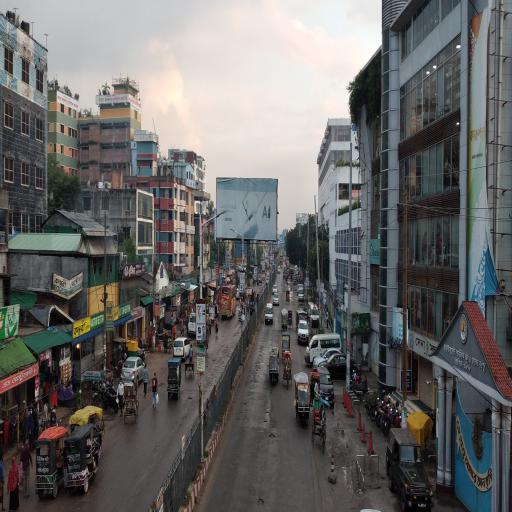ambulance: (311, 304, 320, 328)
army vehicle: (388, 426, 434, 511)
auto rickshaw: (68, 424, 102, 495), (36, 426, 68, 498), (70, 409, 107, 443), (295, 373, 311, 428), (169, 358, 183, 401), (269, 345, 280, 385), (283, 331, 291, 352), (283, 309, 289, 330)
bicycle: (85, 391, 103, 408)
bus: (221, 285, 237, 319)
car: (320, 354, 357, 383), (122, 357, 145, 388), (314, 349, 343, 371), (319, 366, 335, 405), (174, 338, 190, 362), (274, 294, 281, 306), (273, 285, 278, 293), (237, 289, 240, 299), (267, 278, 270, 285)
motorbike: (371, 399, 393, 422), (366, 393, 386, 416), (377, 402, 398, 423), (103, 389, 119, 413), (13, 416, 26, 445), (383, 417, 404, 434), (351, 372, 363, 387), (115, 359, 125, 377)
pickup: (297, 309, 310, 343), (294, 276, 297, 285)
rickshaw: (313, 397, 328, 452), (124, 384, 140, 425), (311, 371, 321, 410), (283, 352, 293, 388), (289, 309, 294, 328), (208, 315, 211, 339), (287, 290, 290, 303), (291, 275, 294, 284), (283, 272, 286, 280), (285, 275, 288, 282)
truck: (290, 264, 295, 274), (280, 255, 284, 266)
van: (306, 334, 342, 361), (188, 313, 197, 336), (266, 303, 275, 325), (298, 287, 305, 302), (279, 267, 282, 274)
